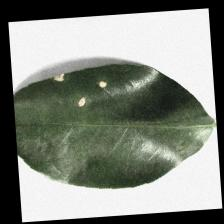canker: (49, 67, 111, 114)
